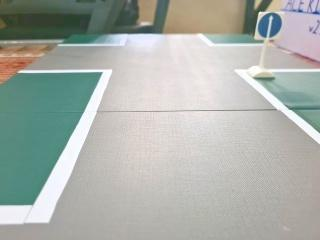straight: (255, 12, 289, 43)
